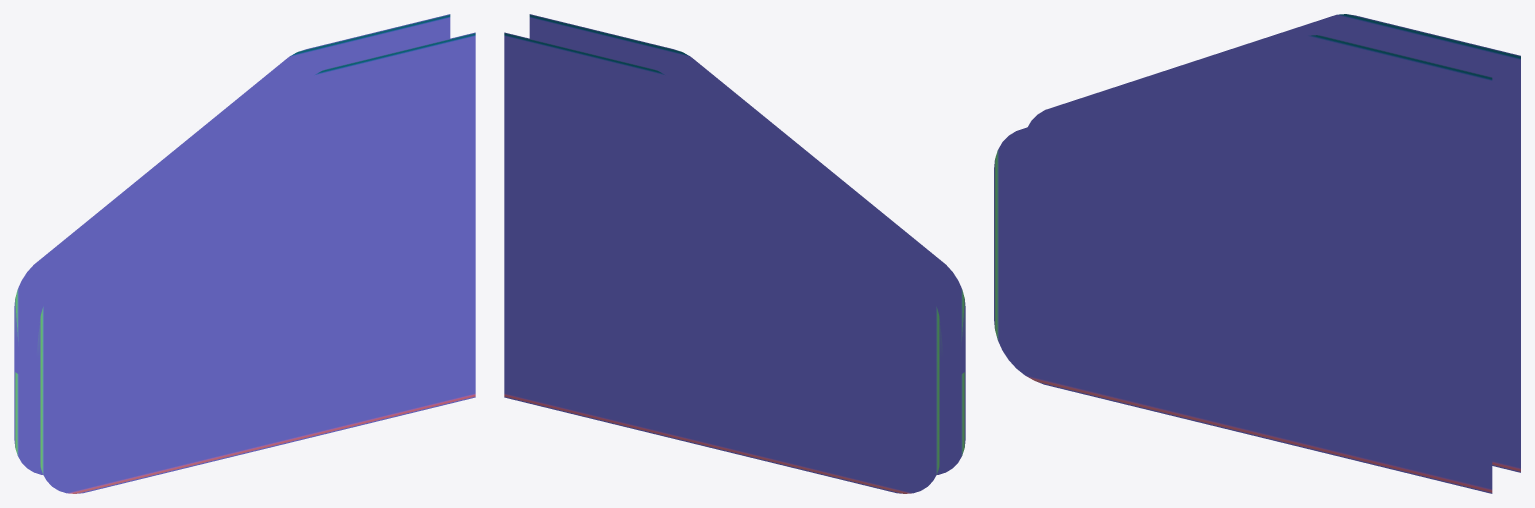
File: Wall_Curved_01.FBX
3 views of the same model, side by side, from view 1: azimuth 30°, elevation 25°; view 2: azimuth 150°, elevation 25°; view 3: azimuth 330°, elevation 25° (orthographic). The views are drawn at different scales.
Parts seen in each view (by area): view 1: Wall_Curved_01; view 2: Wall_Curved_01; view 3: Wall_Curved_01.
Part boxes in pixels (box(x1,y1,x2,y2)): Wall_Curved_01: box(14, 14, 475, 493); Wall_Curved_01: box(504, 14, 965, 493); Wall_Curved_01: box(994, 14, 1520, 493).
Size of the model in its own units: 10 by 8 by 1.
1 material, 1 textured.
